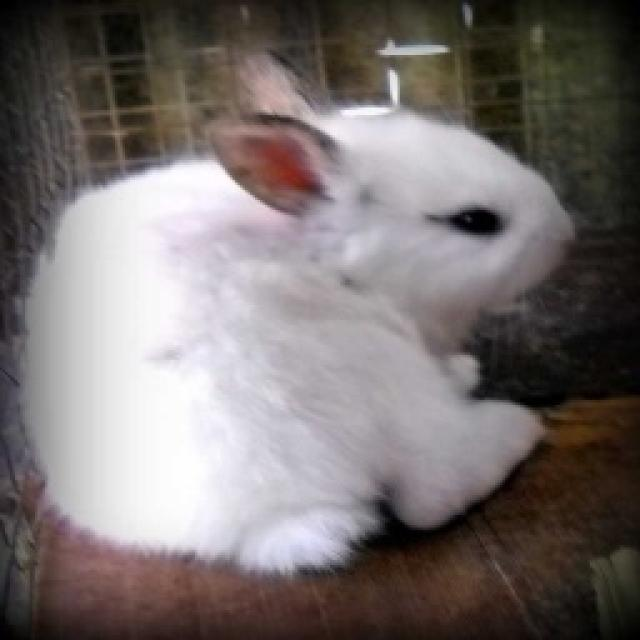not_pig: (18, 48, 578, 578)
